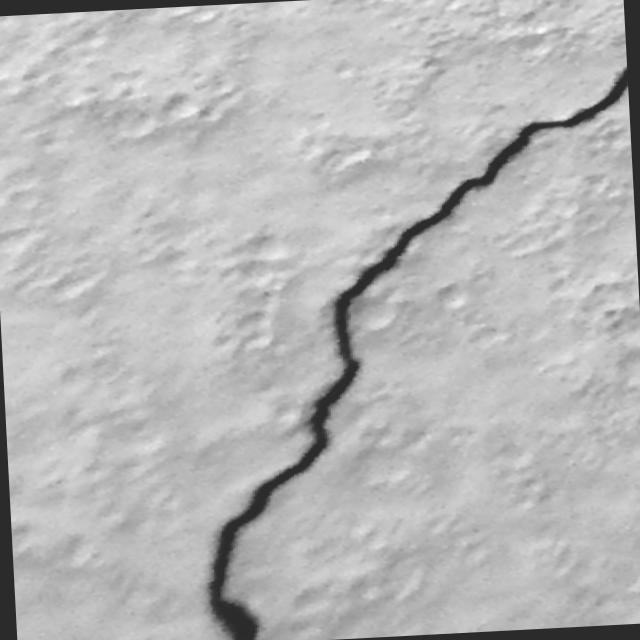crack: (180, 66, 640, 640)
